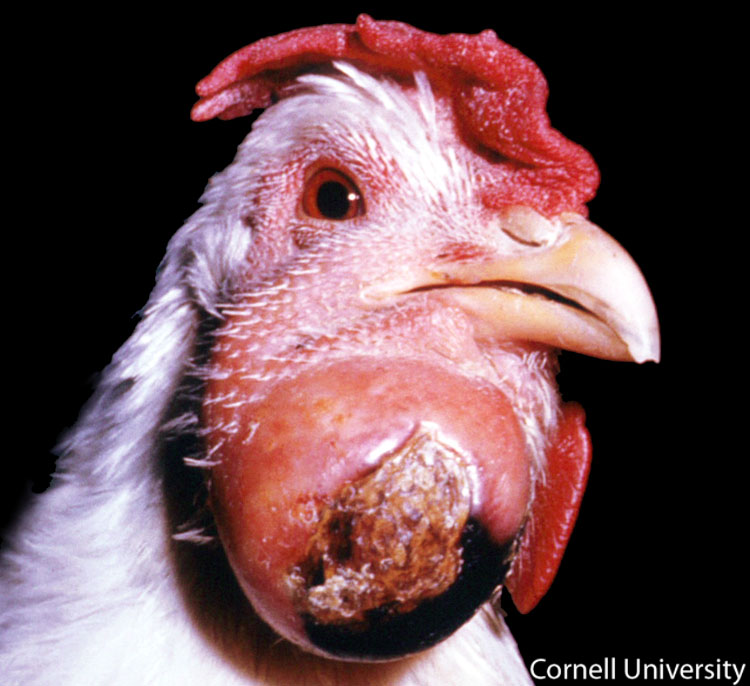fowl cholera: (12, 10, 681, 686)
